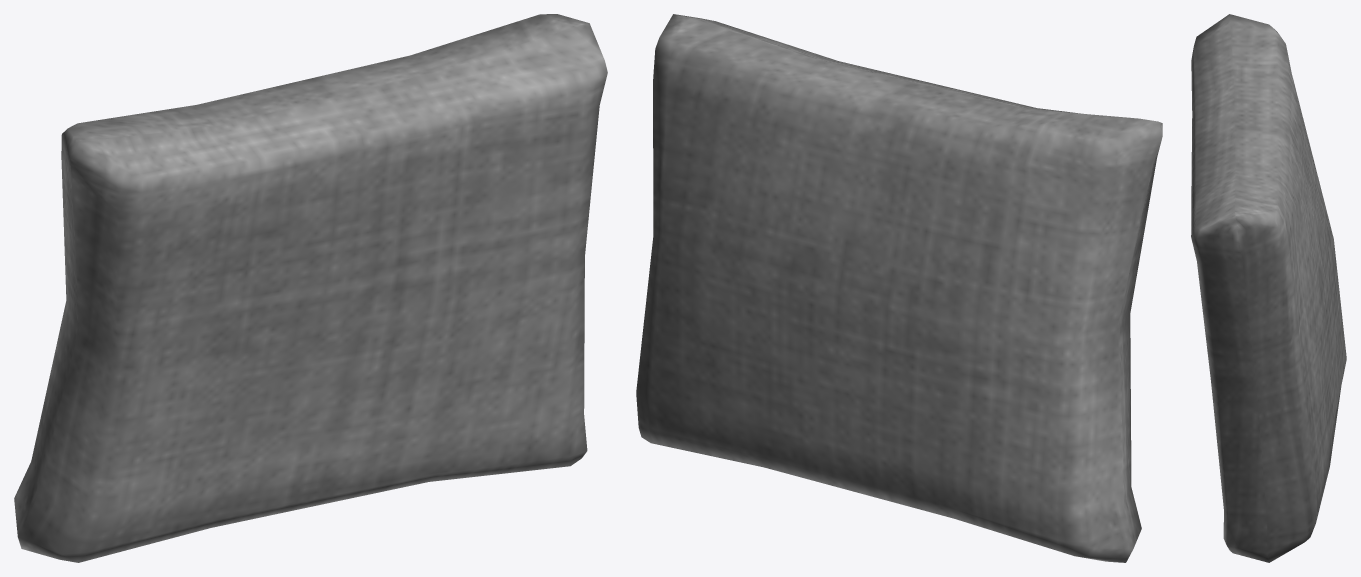
File: Cushion 1.FBX
3 views of the same model, side by side, from view 1: azimuth 30°, elevation 25°; view 2: azimuth 150°, elevation 25°; view 3: azimuth 270°, elevation 25° (orthographic). The views are drawn at different scales.
Visible parts, largest first — view 1: Cushion01; view 2: Cushion01; view 3: Cushion01.
Part boxes in pixels (<box>): Cushion01: <box>14,14,607,562</box>; Cushion01: <box>636,14,1162,562</box>; Cushion01: <box>1191,14,1346,562</box>.
Size of the model in its own units: 79.48 by 62.6 by 25.13.
